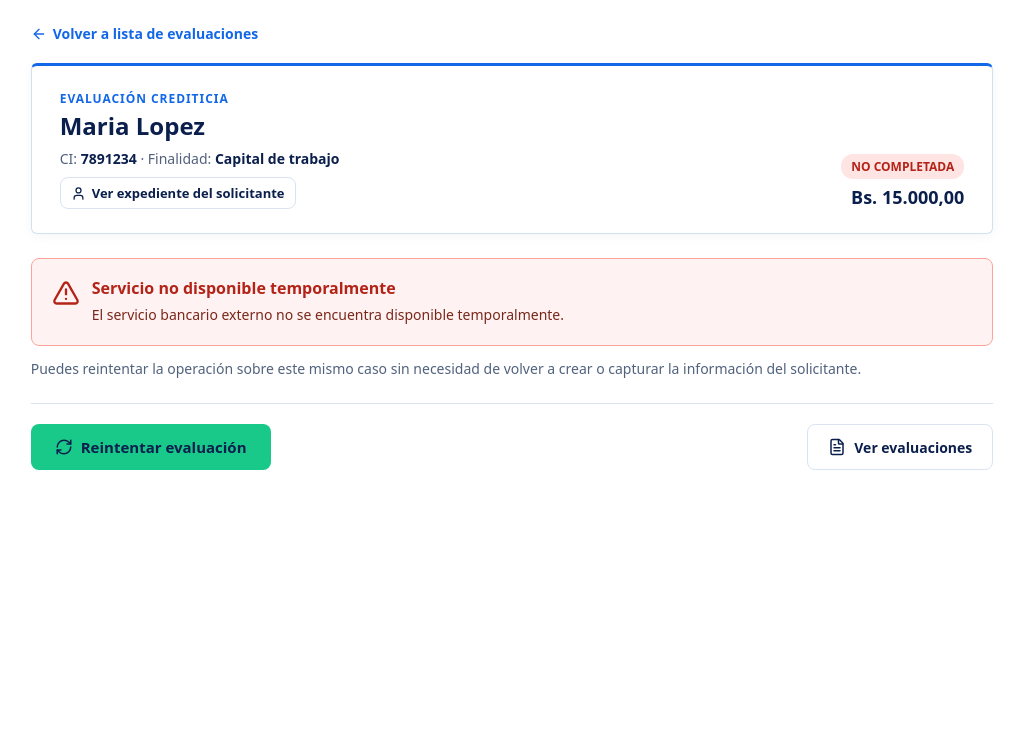
it: HU-11 EvaluationDetail › PA-11.5 & CA-11.18: allows retrying on the same evaluation when FAILED
Expected: the text "NO COMPLETADA" is shown, [841,154,964,179]
Click the button "Reintentar evaluación". click: (151, 448)
box: [31,424,270,470]
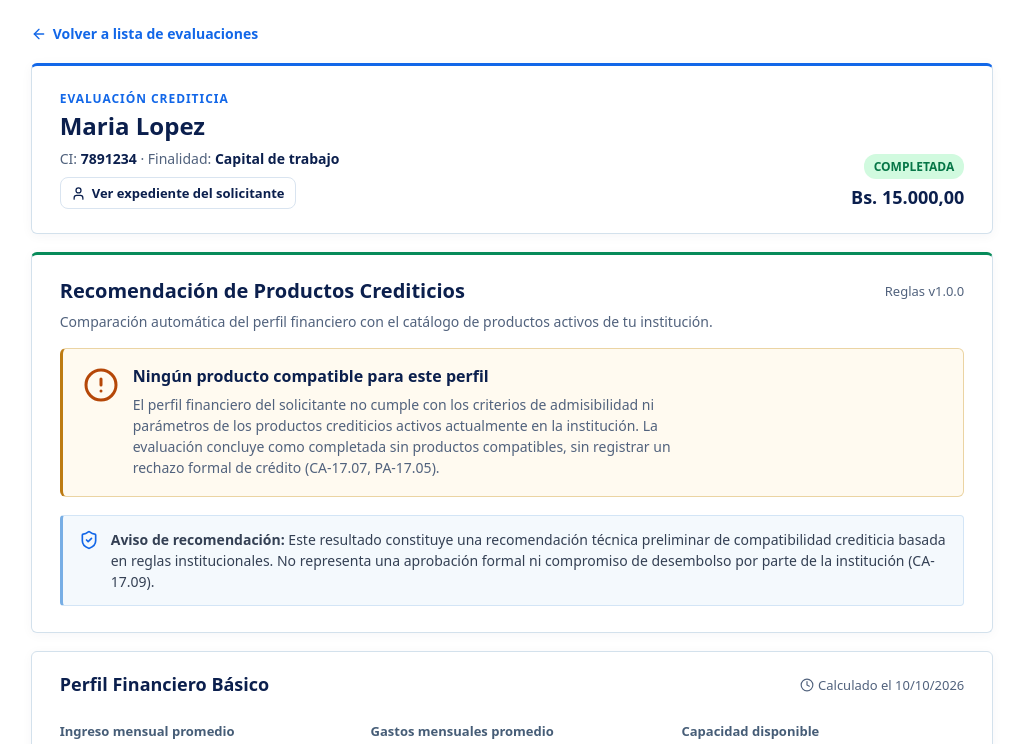
Expected: the text "COMPLETADA" is shown, [864,154,964,179]
Expected: the heading "Perfil Financiero Básico" is shown, [60,674,269,696]
